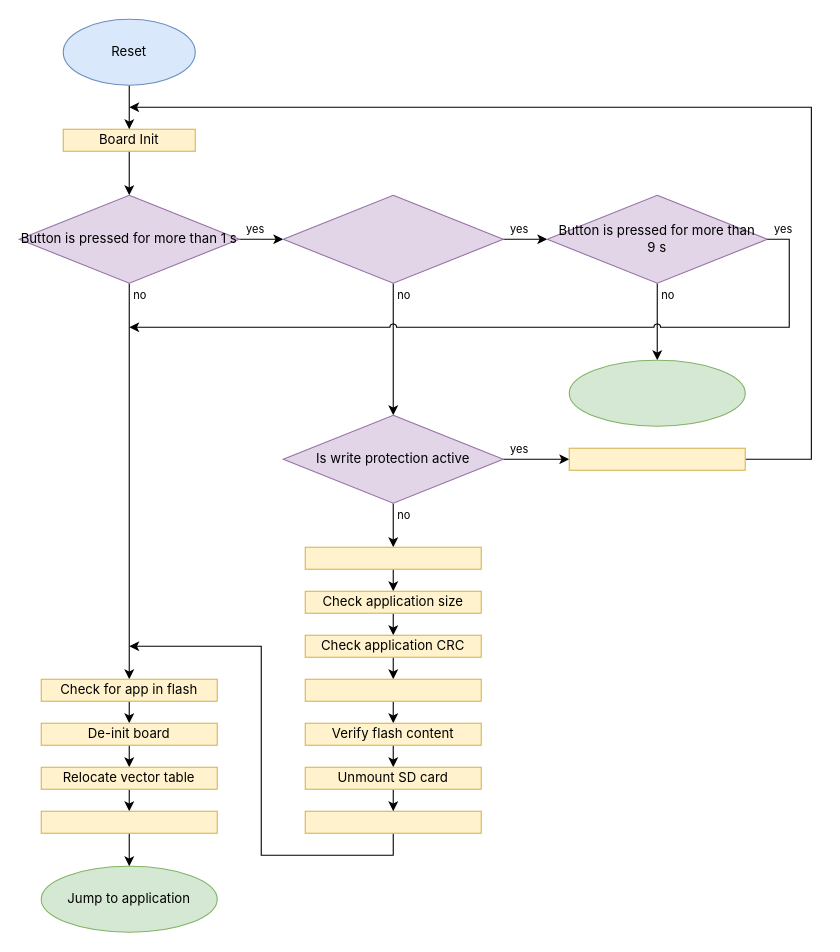
Image size: 840x952. Some labels were removed from this diagram. Each missing label, with the centre of its shape:
"Button is pressed for more than 4 s" goes at point (392, 238).
"Disable write protection" goes at point (656, 458).
"Enable write protection" goes at point (392, 821).
"Flash programming" goes at point (392, 689).
"Initialize & mount SD card" goes at point (392, 557).
"Jump to System Memory (ST Bootloader)" goes at point (656, 392).
"Set stack pointer" goes at point (128, 821).
